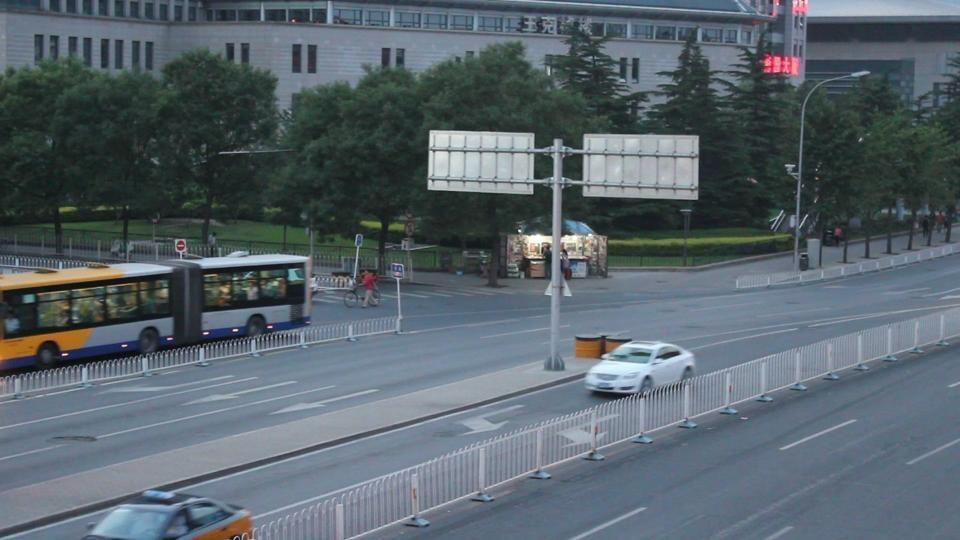car: (81, 487, 256, 539), (583, 340, 697, 397)
